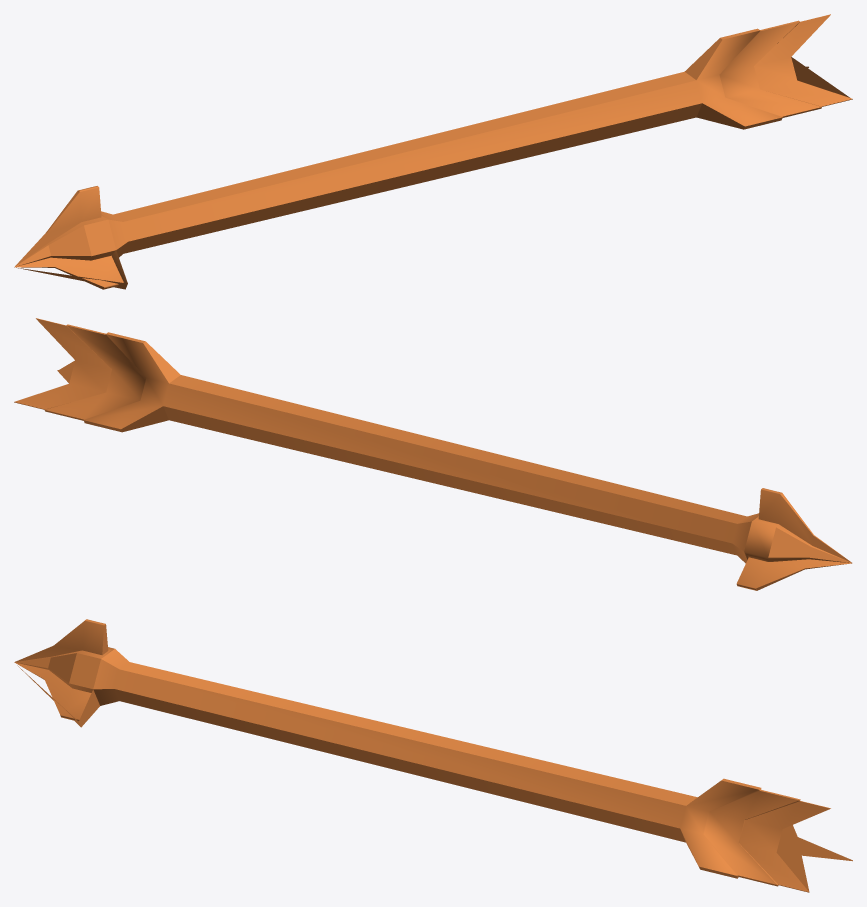
File: Arrow.fbx
The picture shows the model from 3 angles, top to bottom: view 1: azimuth 30°, elevation 25°; view 2: azimuth 150°, elevation 25°; view 3: azimuth 330°, elevation 25°; orthographic projection.
Parts seen in each view (by area): view 1: Cylinder; view 2: Cylinder; view 3: Cylinder.
Part boxes in pixels (x1,y1,x2,y2): Cylinder: (14,14,852,289); Cylinder: (14,318,852,590); Cylinder: (14,619,852,892).
Bounding box in the file's own units: 198 × 19.53 × 22.42.
